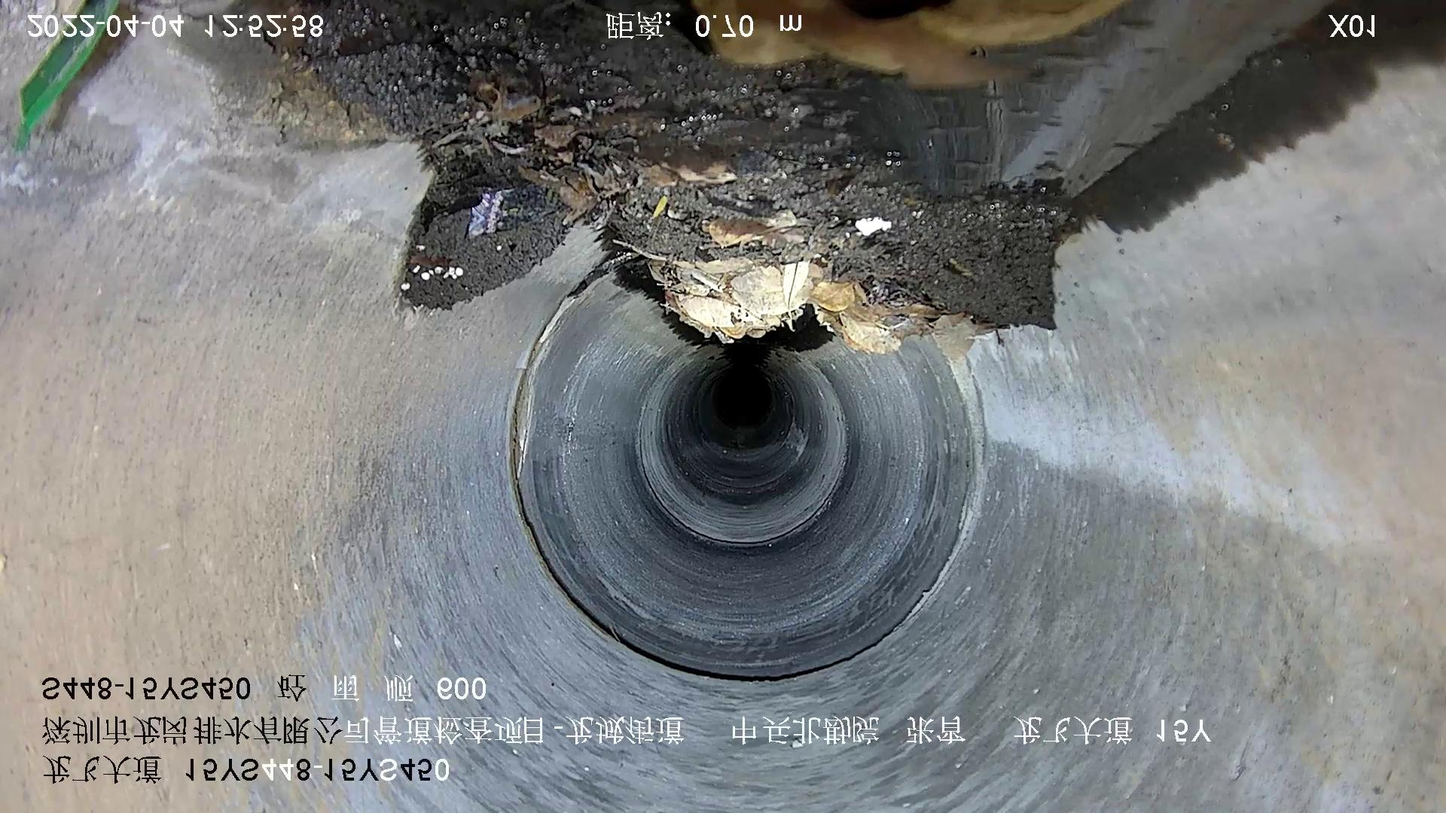CJ: (300, 1, 1071, 353)
CKTJ: (505, 248, 987, 687), (634, 404, 849, 549)
